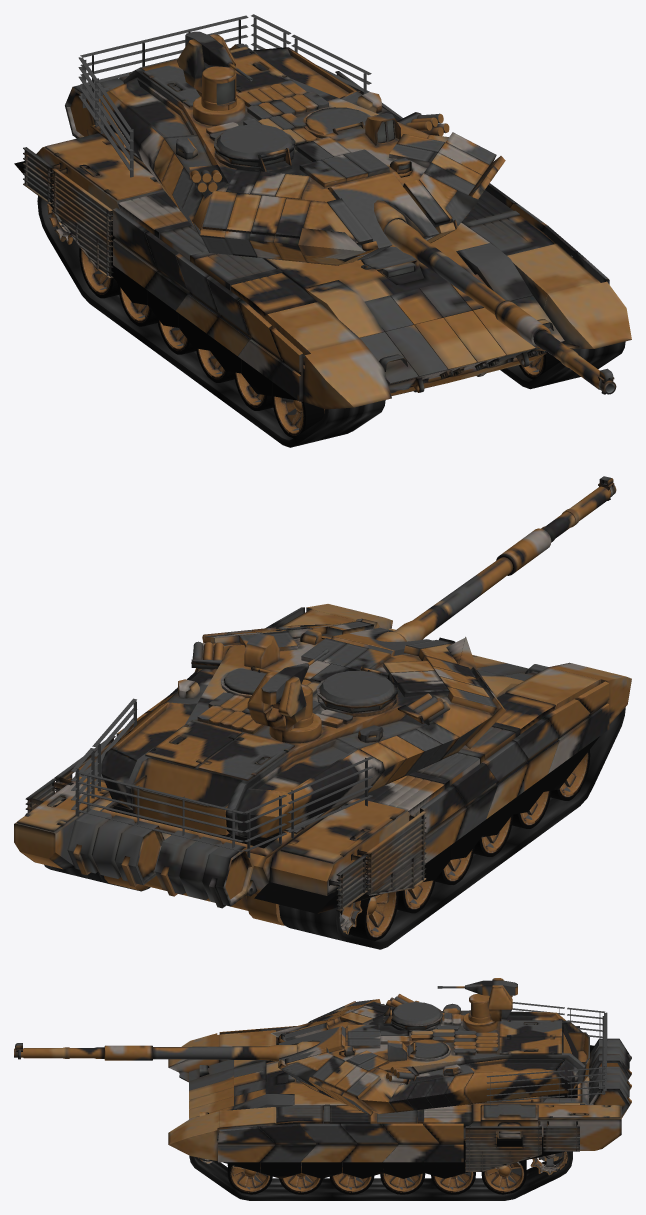
File: unit_t90ms.glb
3 renders of one model, top to bottom at view 1: azimuth 30°, elevation 25°; view 2: azimuth 150°, elevation 25°; view 3: azimuth 270°, elevation 25°, orthographic. The views are drawn at different scales.
Visible parts, largest first — view 1: Object_3; view 2: Object_3; view 3: Object_3.
Boxes of the visible parts, left/top/right/bottom form: Object_3: left=14, top=14, right=631, bottom=447; Object_3: left=14, top=476, right=631, bottom=949; Object_3: left=14, top=978, right=631, bottom=1200.
Size of the model in its own units: 70 by 50.91 by 180.
2 materials, 2 textured.
